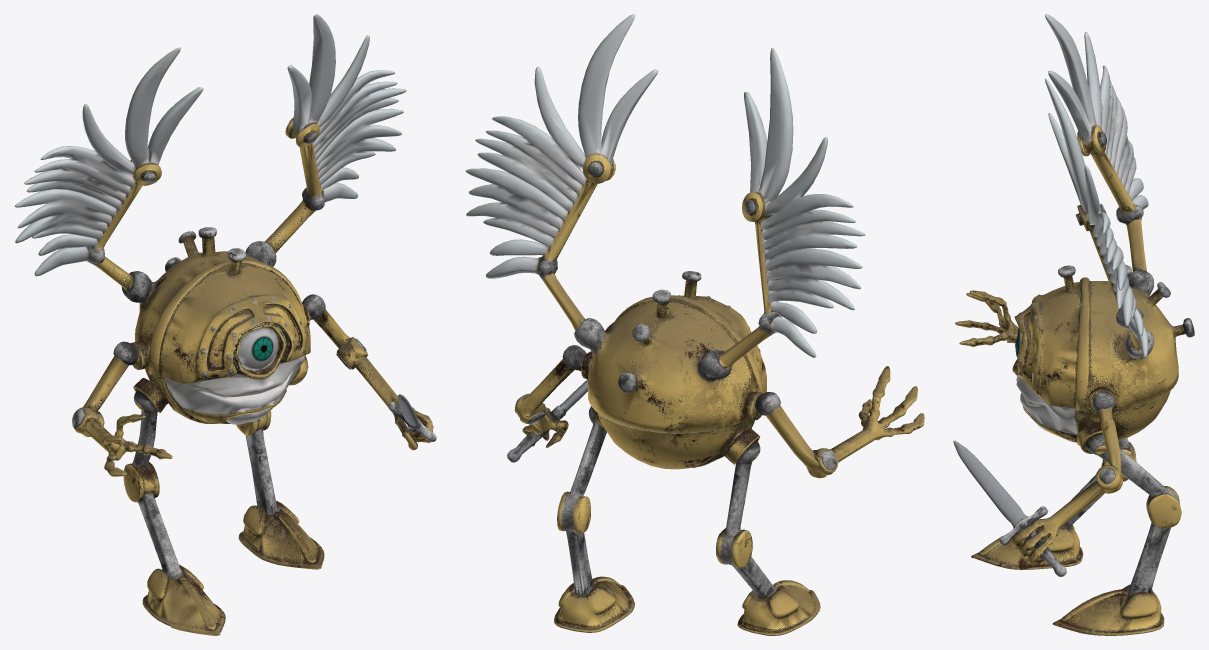
The model's file is MZ4250 - Monodrone.glb.
3 views of the same model, side by side, from view 1: azimuth 30°, elevation 25°; view 2: azimuth 150°, elevation 25°; view 3: azimuth 270°, elevation 25° (orthographic). The views are drawn at different scales.
Parts seen in each view (by area): view 1: Monodrone_Low.001; view 2: Monodrone_Low.001; view 3: Monodrone_Low.001.
Boxes of the visible parts, bbox=[...] form: Monodrone_Low.001: bbox=[14, 14, 436, 635]; Monodrone_Low.001: bbox=[465, 14, 924, 635]; Monodrone_Low.001: bbox=[953, 14, 1194, 635].
Bounding box in the file's own units: 3.9 × 5.36 × 2.16.
Materials: 1 (1 with a texture image).
